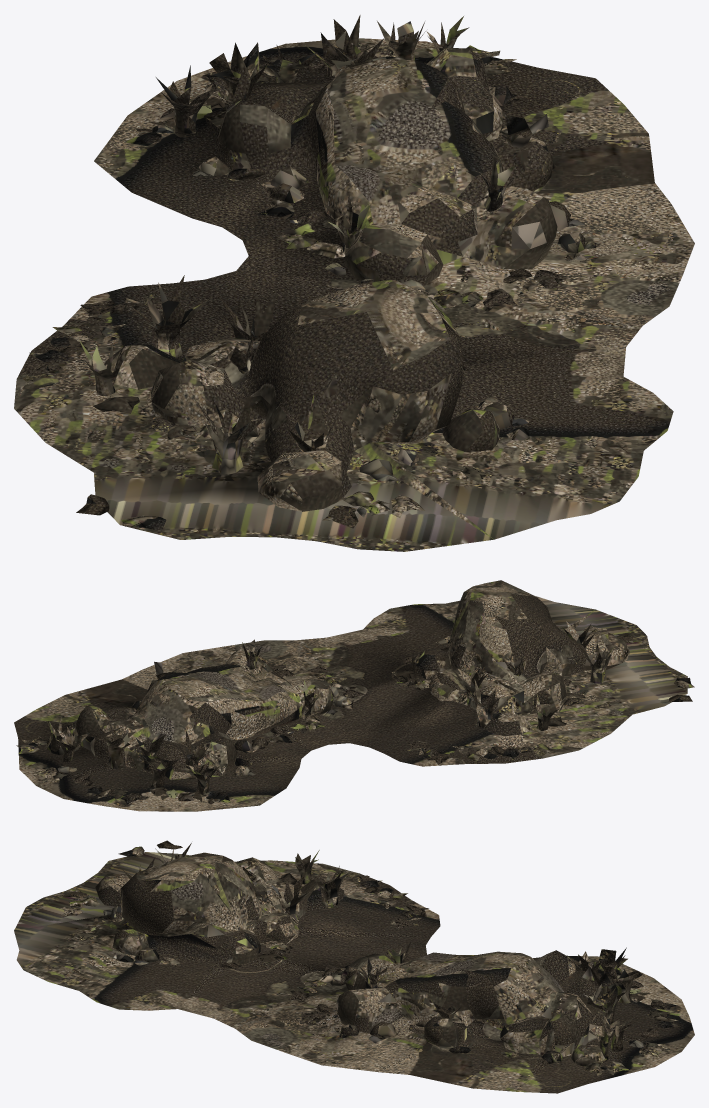
The model's file is rocky+terrain+3d+model+1.fbx.
3 views of the same model, one above another, from view 1: azimuth 30°, elevation 25°; view 2: azimuth 150°, elevation 25°; view 3: azimuth 270°, elevation 25° (orthographic). The views are drawn at different scales.
Visible parts, largest first — view 1: meshes[0]; view 2: meshes[0]; view 3: meshes[0].
Part boxes in pixels (<box>): meshes[0]: <box>14,15,694,551</box>; meshes[0]: <box>14,580,694,811</box>; meshes[0]: <box>14,840,694,1093</box>.
Size of the model in its own units: 0.8652 by 0.1309 by 0.998.
Materials: 1 (1 with a texture image).
